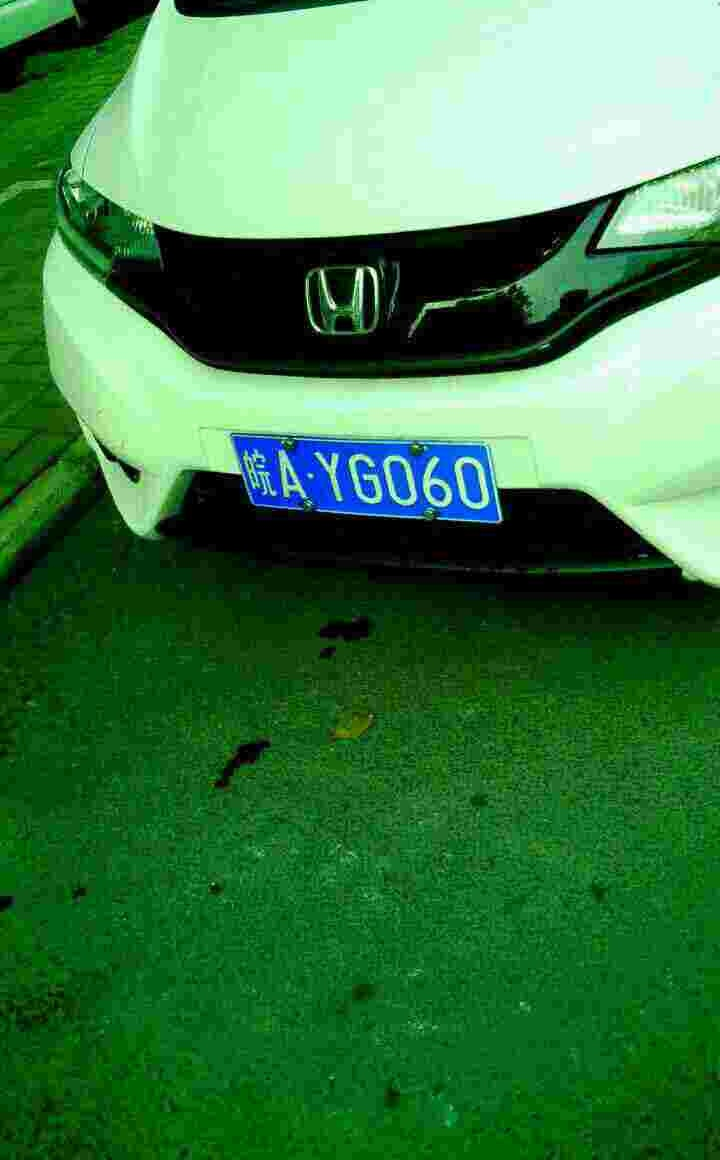plate: (222, 429, 510, 527)
